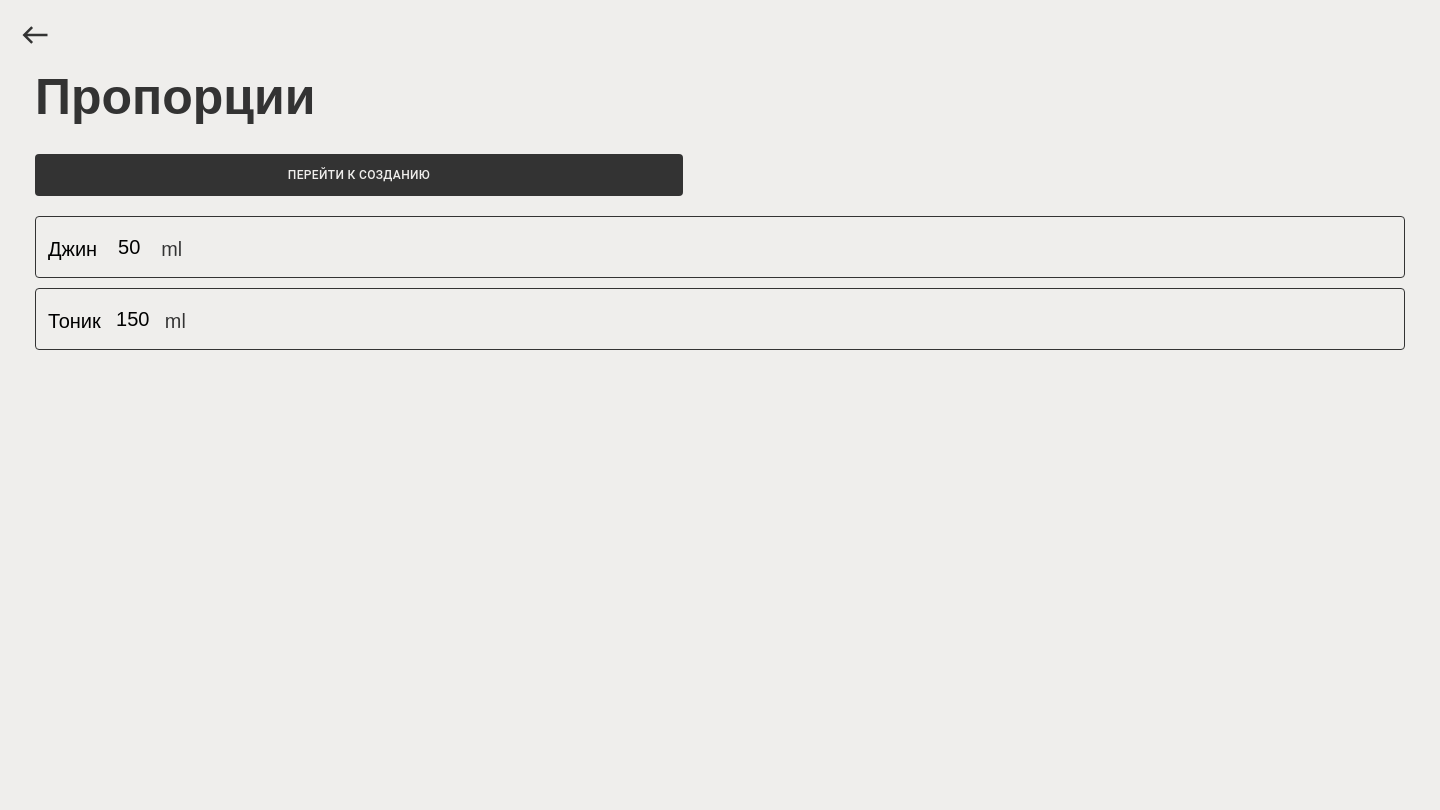
Test: ProportionsPage › в hard mode при превышении ошибок открывает HardModeFailModal
What coordinates should you click on to do the following:
click the button "Перейти к созданию"
I would click on:
 (359, 175)
Its box is [35,154,683,196].
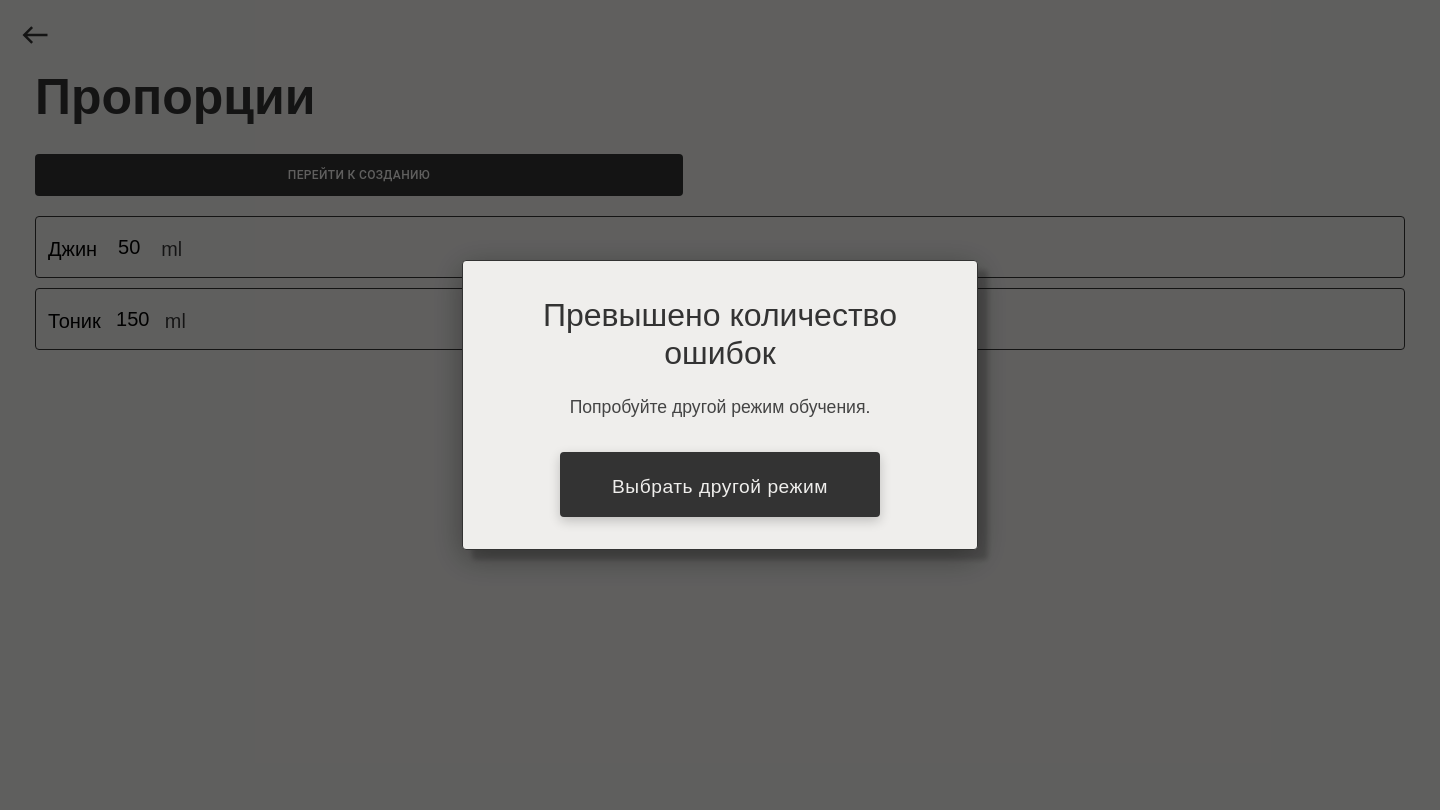
expect the heading "Превышено количество ошибок" is shown: met, box [543,289,897,373]
